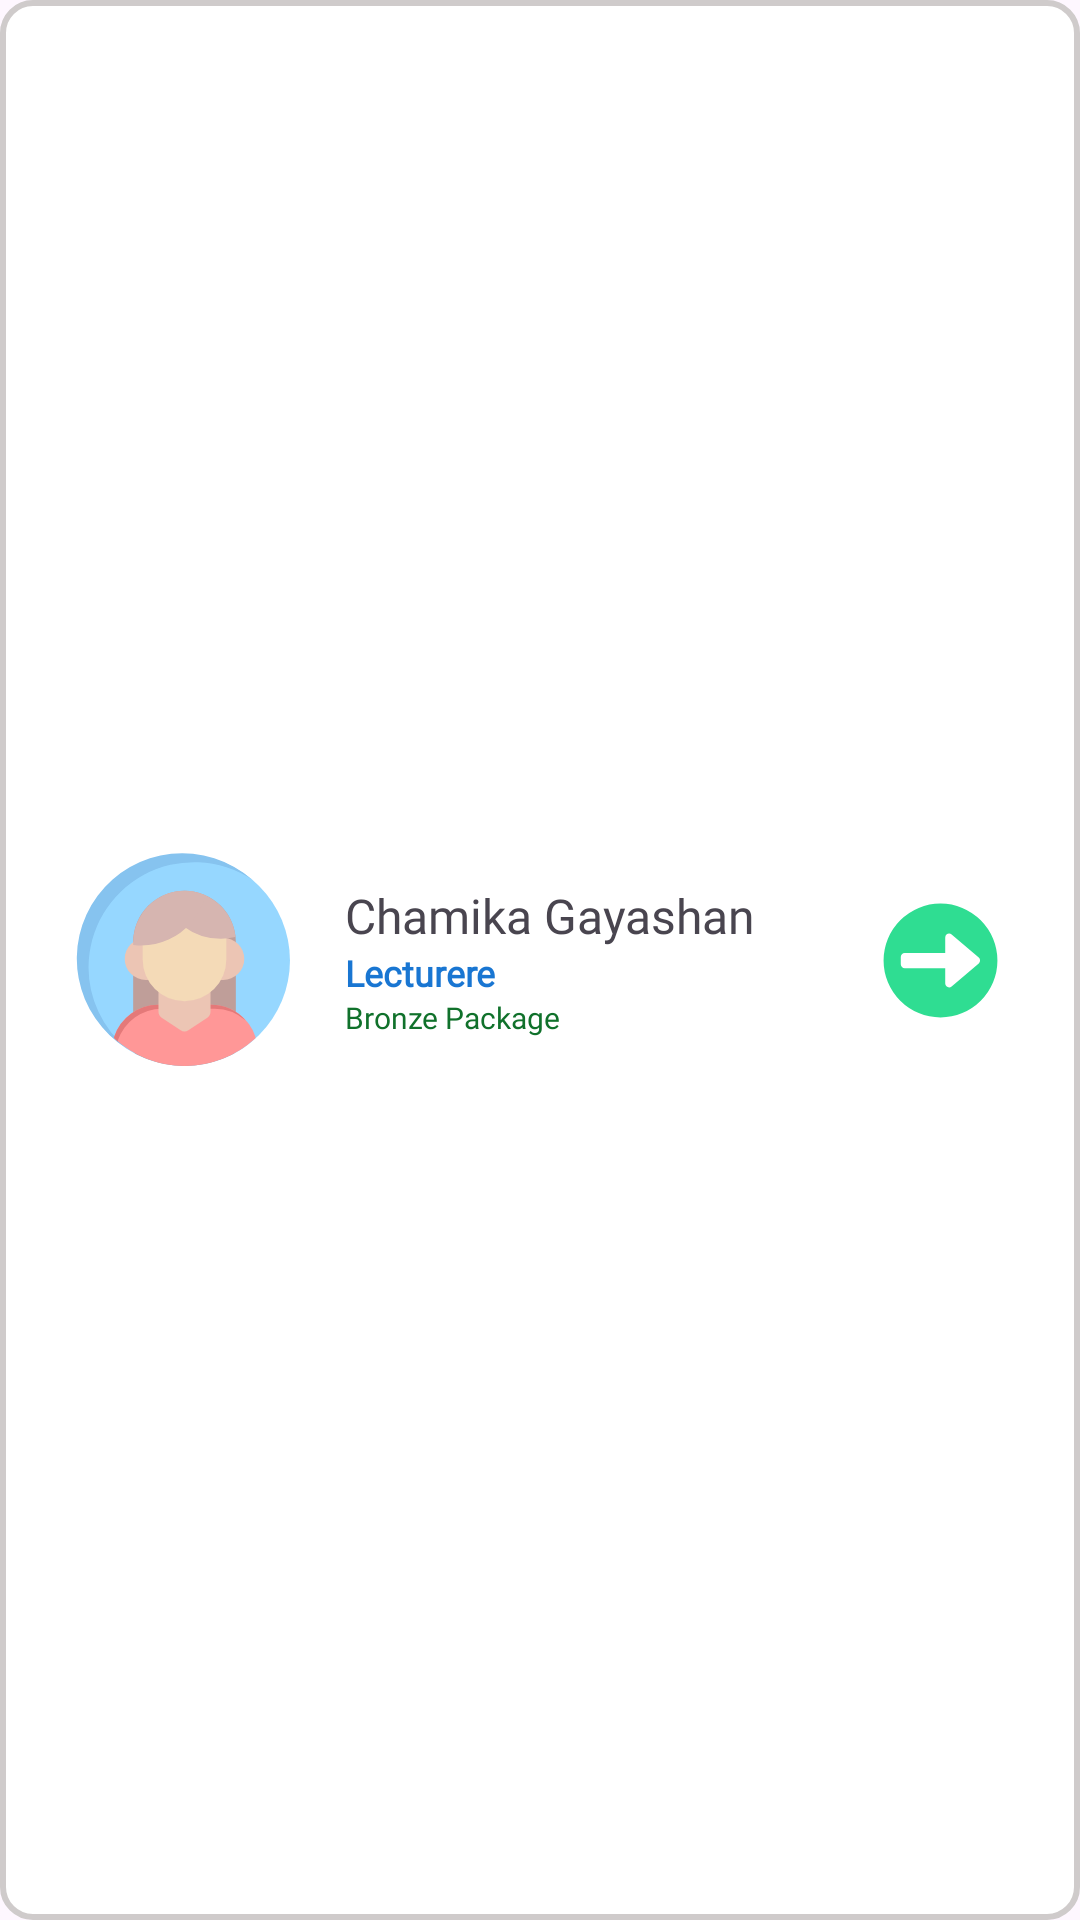

Icons on this 1080x1920 Android screen, each with the point to tap as point (x, y):
arrow right: point (940, 960)
profile: point (183, 959)
